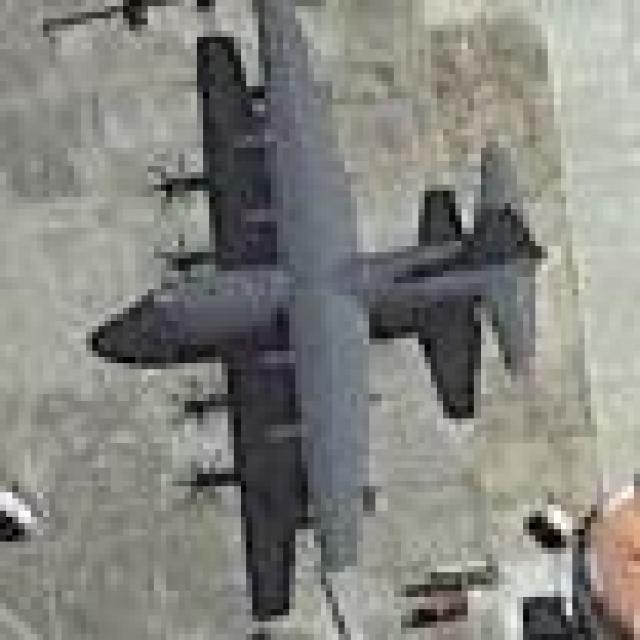C-130_TopDown: (88, 0, 556, 623)
